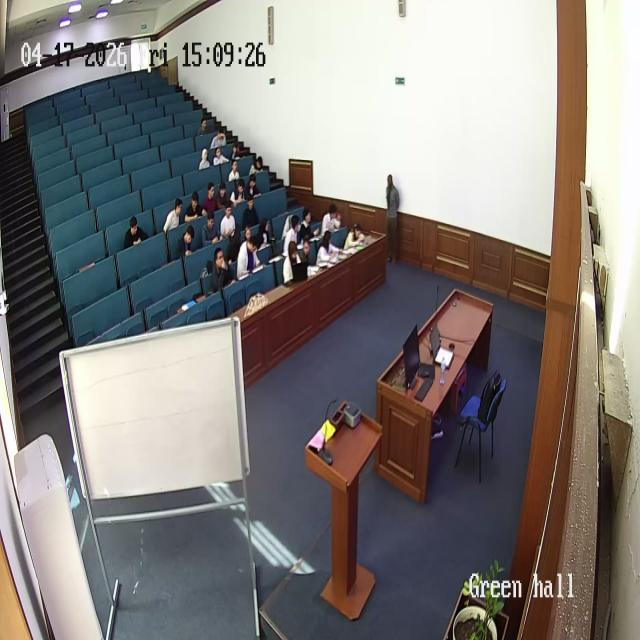person: (386, 174, 400, 262), (236, 225, 258, 280), (210, 246, 234, 294), (282, 213, 302, 255), (316, 229, 338, 267), (281, 240, 299, 284), (176, 223, 196, 261), (123, 216, 145, 250), (201, 211, 221, 248), (163, 199, 183, 235), (297, 236, 315, 274), (242, 195, 260, 233), (297, 208, 315, 244), (322, 202, 341, 236), (344, 221, 364, 251), (220, 203, 236, 240), (184, 191, 202, 223), (256, 218, 274, 250), (203, 182, 219, 216), (245, 173, 260, 203), (231, 177, 246, 205), (249, 156, 265, 182), (210, 126, 227, 150), (227, 159, 241, 187), (213, 144, 229, 166), (198, 146, 212, 170), (229, 142, 243, 166), (197, 118, 209, 142)
